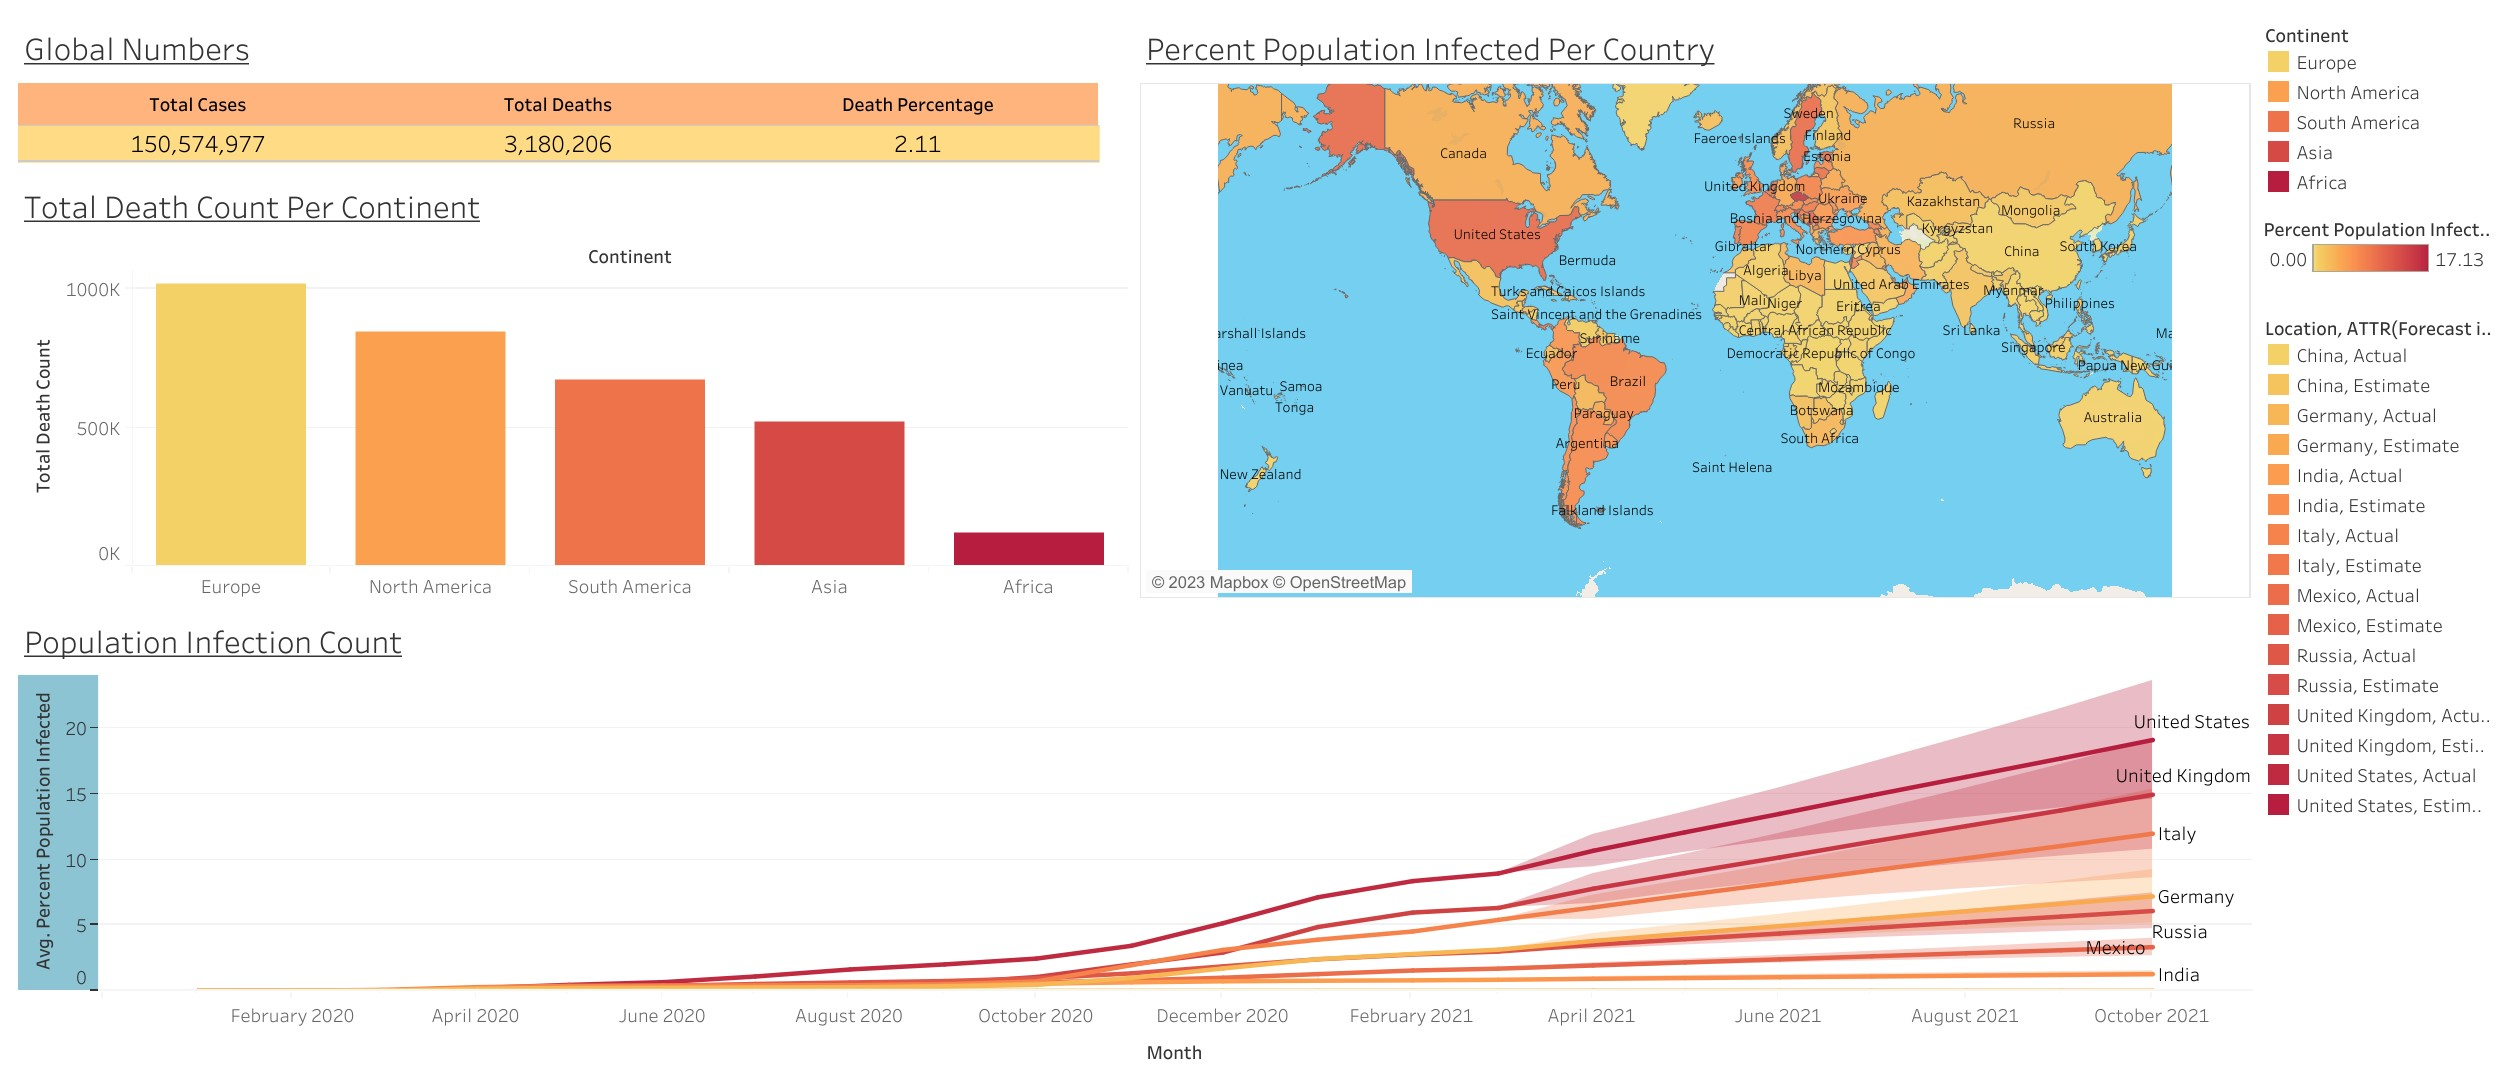

What the dashboard file says about the page in this screenshot:
{"tool":"tableau","page":{"name":"Covid19 Dashboard","canvas":[1000,1000],"units":"permille","ordinal":0},"visuals":[{"type":"worksheet","title":"Global Numbers","mark":"Automatic","box":[3.6,6,460.8,144.8]},{"type":"worksheet","title":"Percent Population Infected Per Country","mark":"Automatic","box":[464.3,6,460.8,546.8]},{"type":"legend","title":"Total Death Count Per Continent","param":"[federated.0zfnczp1k63pi01g5ibvj1xf6i2b].[none:Location:nk]","box":[925.1,6,71.3,119.9]},{"type":"legend","title":"Percent Population Infected Per Country","param":"[federated.0k1bqci1opz98911azfqe02jadnp].[sum:Percent_Population_Infected:qk]","box":[925.1,125.9,71.3,61.1]},{"type":"worksheet","title":"Total Death Count Per Continent","mark":"Bar","rows":["Total_Death_Count"],"cols":["Location"],"box":[3.6,150.8,460.8,401.9]},{"type":"legend","title":"Population Infection Count","param":"[federated.0wzyxuh1g6plis17jx3k704t7qey].[none:Location:nk]\n[federated.0wzyxuh1g","box":[925.1,187,71.3,327.3]},{"type":"legend","title":"Population Infection Count","param":"[federated.0wzyxuh1g6plis17jx3k704t7qey].[none:Location:nk]","box":[925.1,514.3,71.3,20.4]},{"type":"worksheet","title":"Population Infection Count","mark":"Line","rows":["Percent_Population_Infected"],"cols":["Date"],"box":[3.6,552.8,921.6,441.2]}]}

Visuals, with their boxes on the dashboard's canvas, which has no fixed pixel size, in thousandths of its width and height (x1, y1, x2, y2). These are canvas units, not pixel positions in the 2508x1092 screenshot, which may show the page scaled, cropped or inside an application window:
"Global Numbers" worksheet: bbox=(4, 6, 464, 151)
"Percent Population Infected Per Country" worksheet: bbox=(464, 6, 925, 553)
"Total Death Count Per Continent" legend: bbox=(925, 6, 996, 126)
"Percent Population Infected Per Country" legend: bbox=(925, 126, 996, 187)
"Total Death Count Per Continent" worksheet (Bar marks): bbox=(4, 151, 464, 553)
"Population Infection Count" legend: bbox=(925, 187, 996, 514)
"Population Infection Count" legend: bbox=(925, 514, 996, 535)
"Population Infection Count" worksheet (Line marks): bbox=(4, 553, 925, 994)
